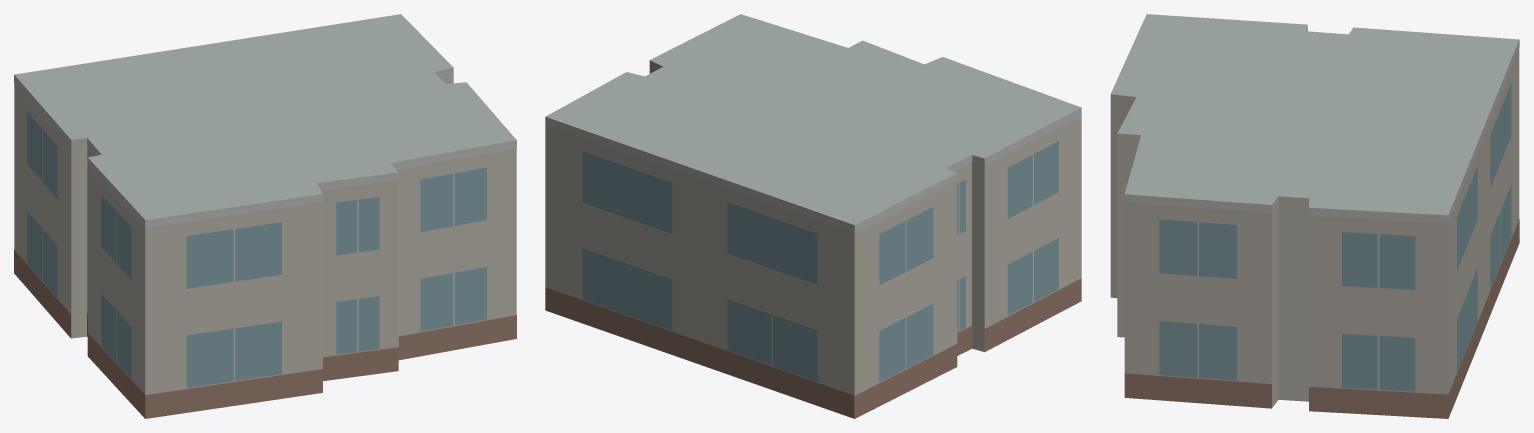
Rendered from survey-upis-32881080.glb.
3 renders of one model, left to right at view 1: azimuth 30°, elevation 25°; view 2: azimuth 150°, elevation 25°; view 3: azimuth 270°, elevation 25°, orthographic. The views are drawn at different scales.
Parts seen in each view (by area): view 1: survey-upis-32881080.tmp; view 2: survey-upis-32881080.tmp; view 3: survey-upis-32881080.tmp.
Part boxes in pixels (box(x1,y1,x2,y2)): survey-upis-32881080.tmp: box(14, 14, 516, 418); survey-upis-32881080.tmp: box(545, 14, 1081, 418); survey-upis-32881080.tmp: box(1110, 14, 1519, 418).
Size of the model in its own units: 12.96 by 6.1 by 11.12.
